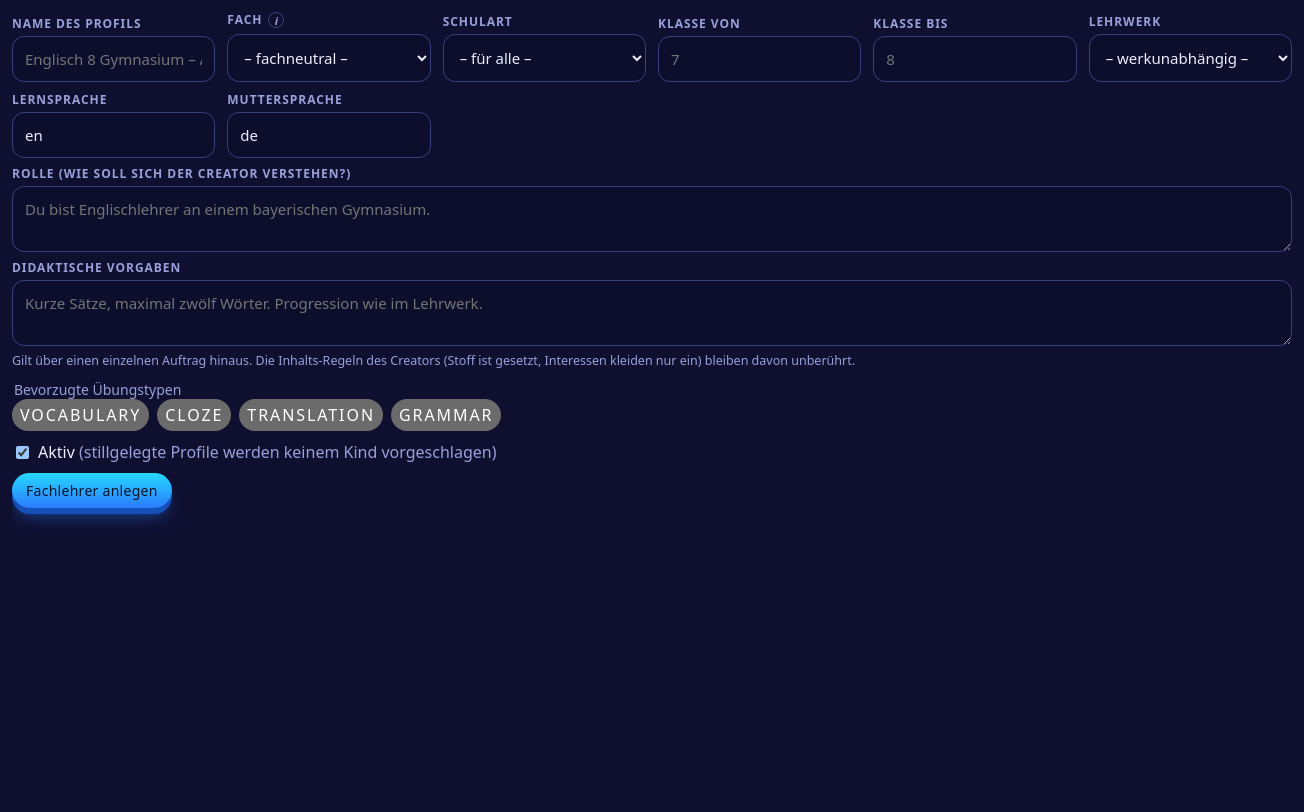
Test: ProfileForm – Ableitung aus dem Lehrwerk › lässt ein vom Nutzer geändertes Feld beim Wählen der Reihe unverändert
In the field labelled "Lernsprache": (114, 135) [12,112,215,158], type "fr"
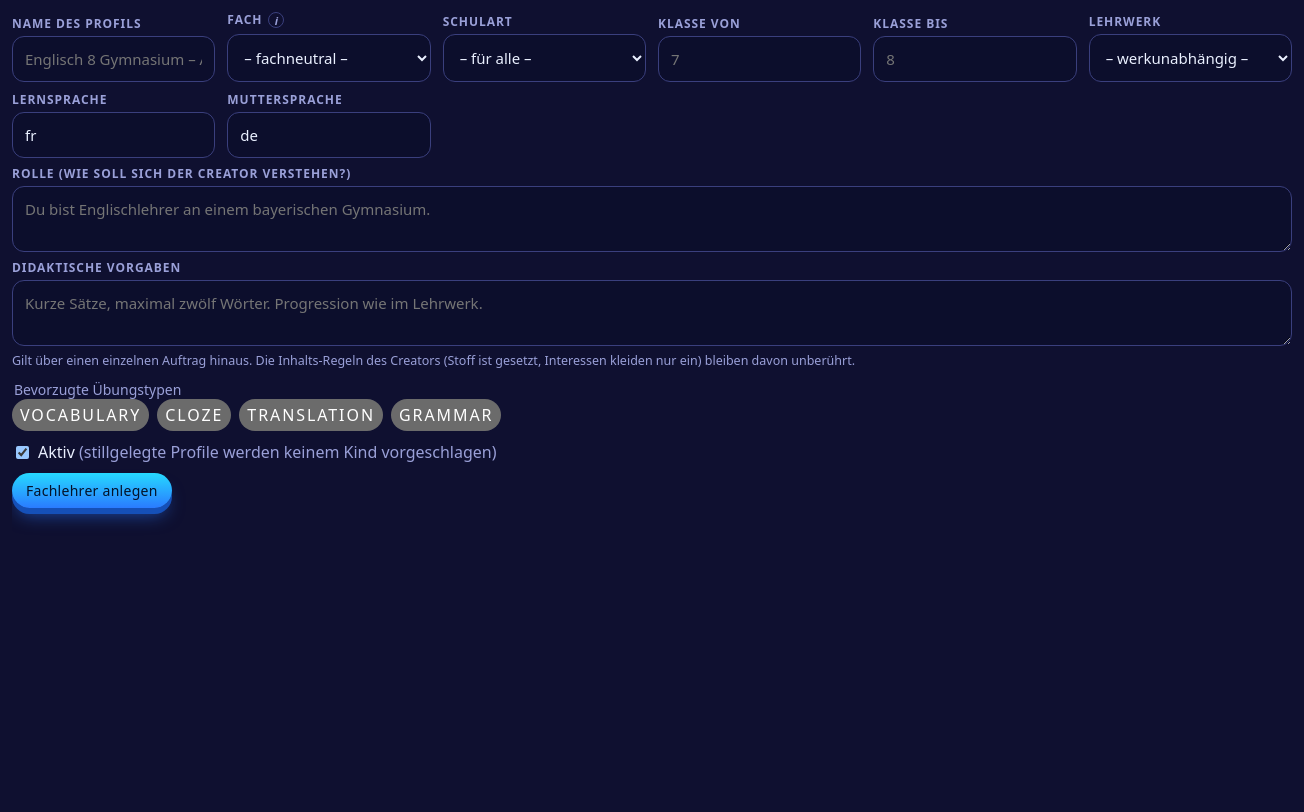
Select "Access" in the dropdown labelled "Lehrwerk": (1190, 58) [1089,34,1292,82]
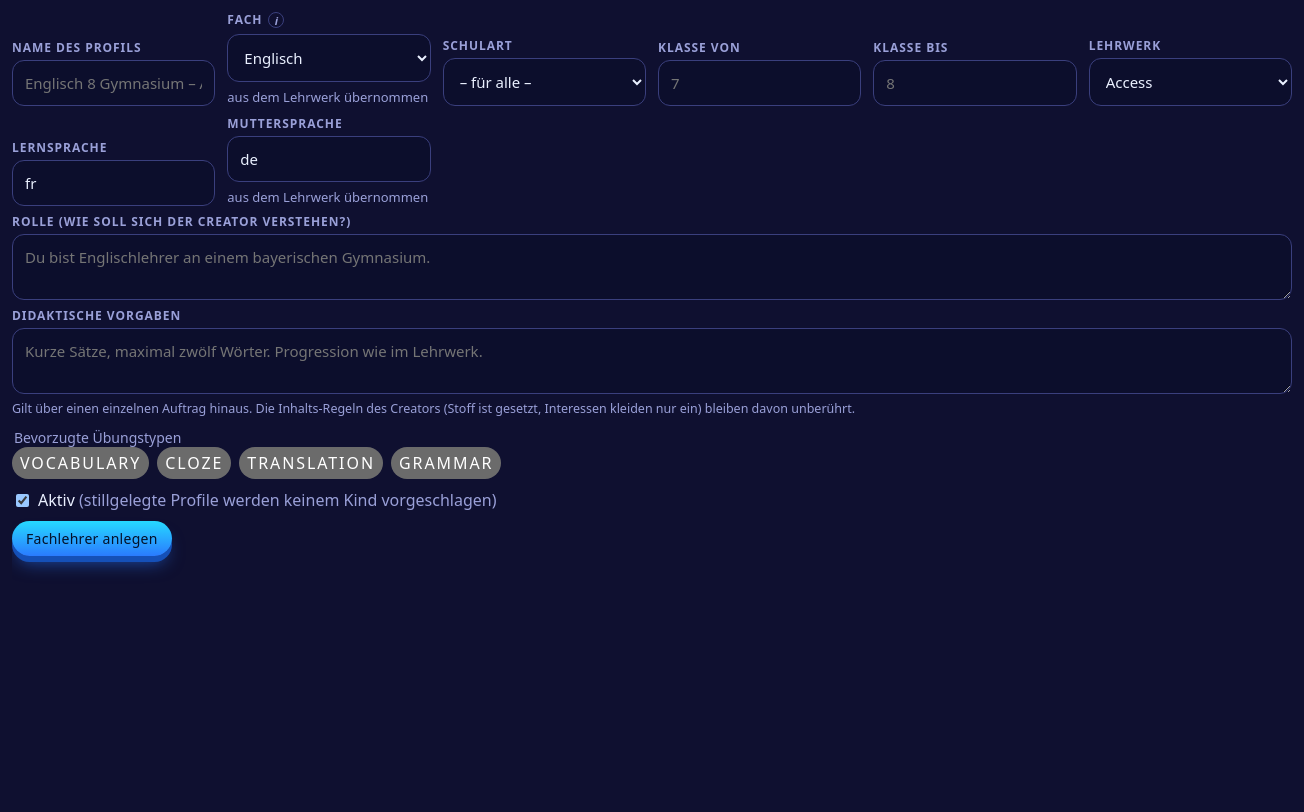
Expected: the dropdown labelled "Fach" shows "Englisch", [227,34,431,82]
